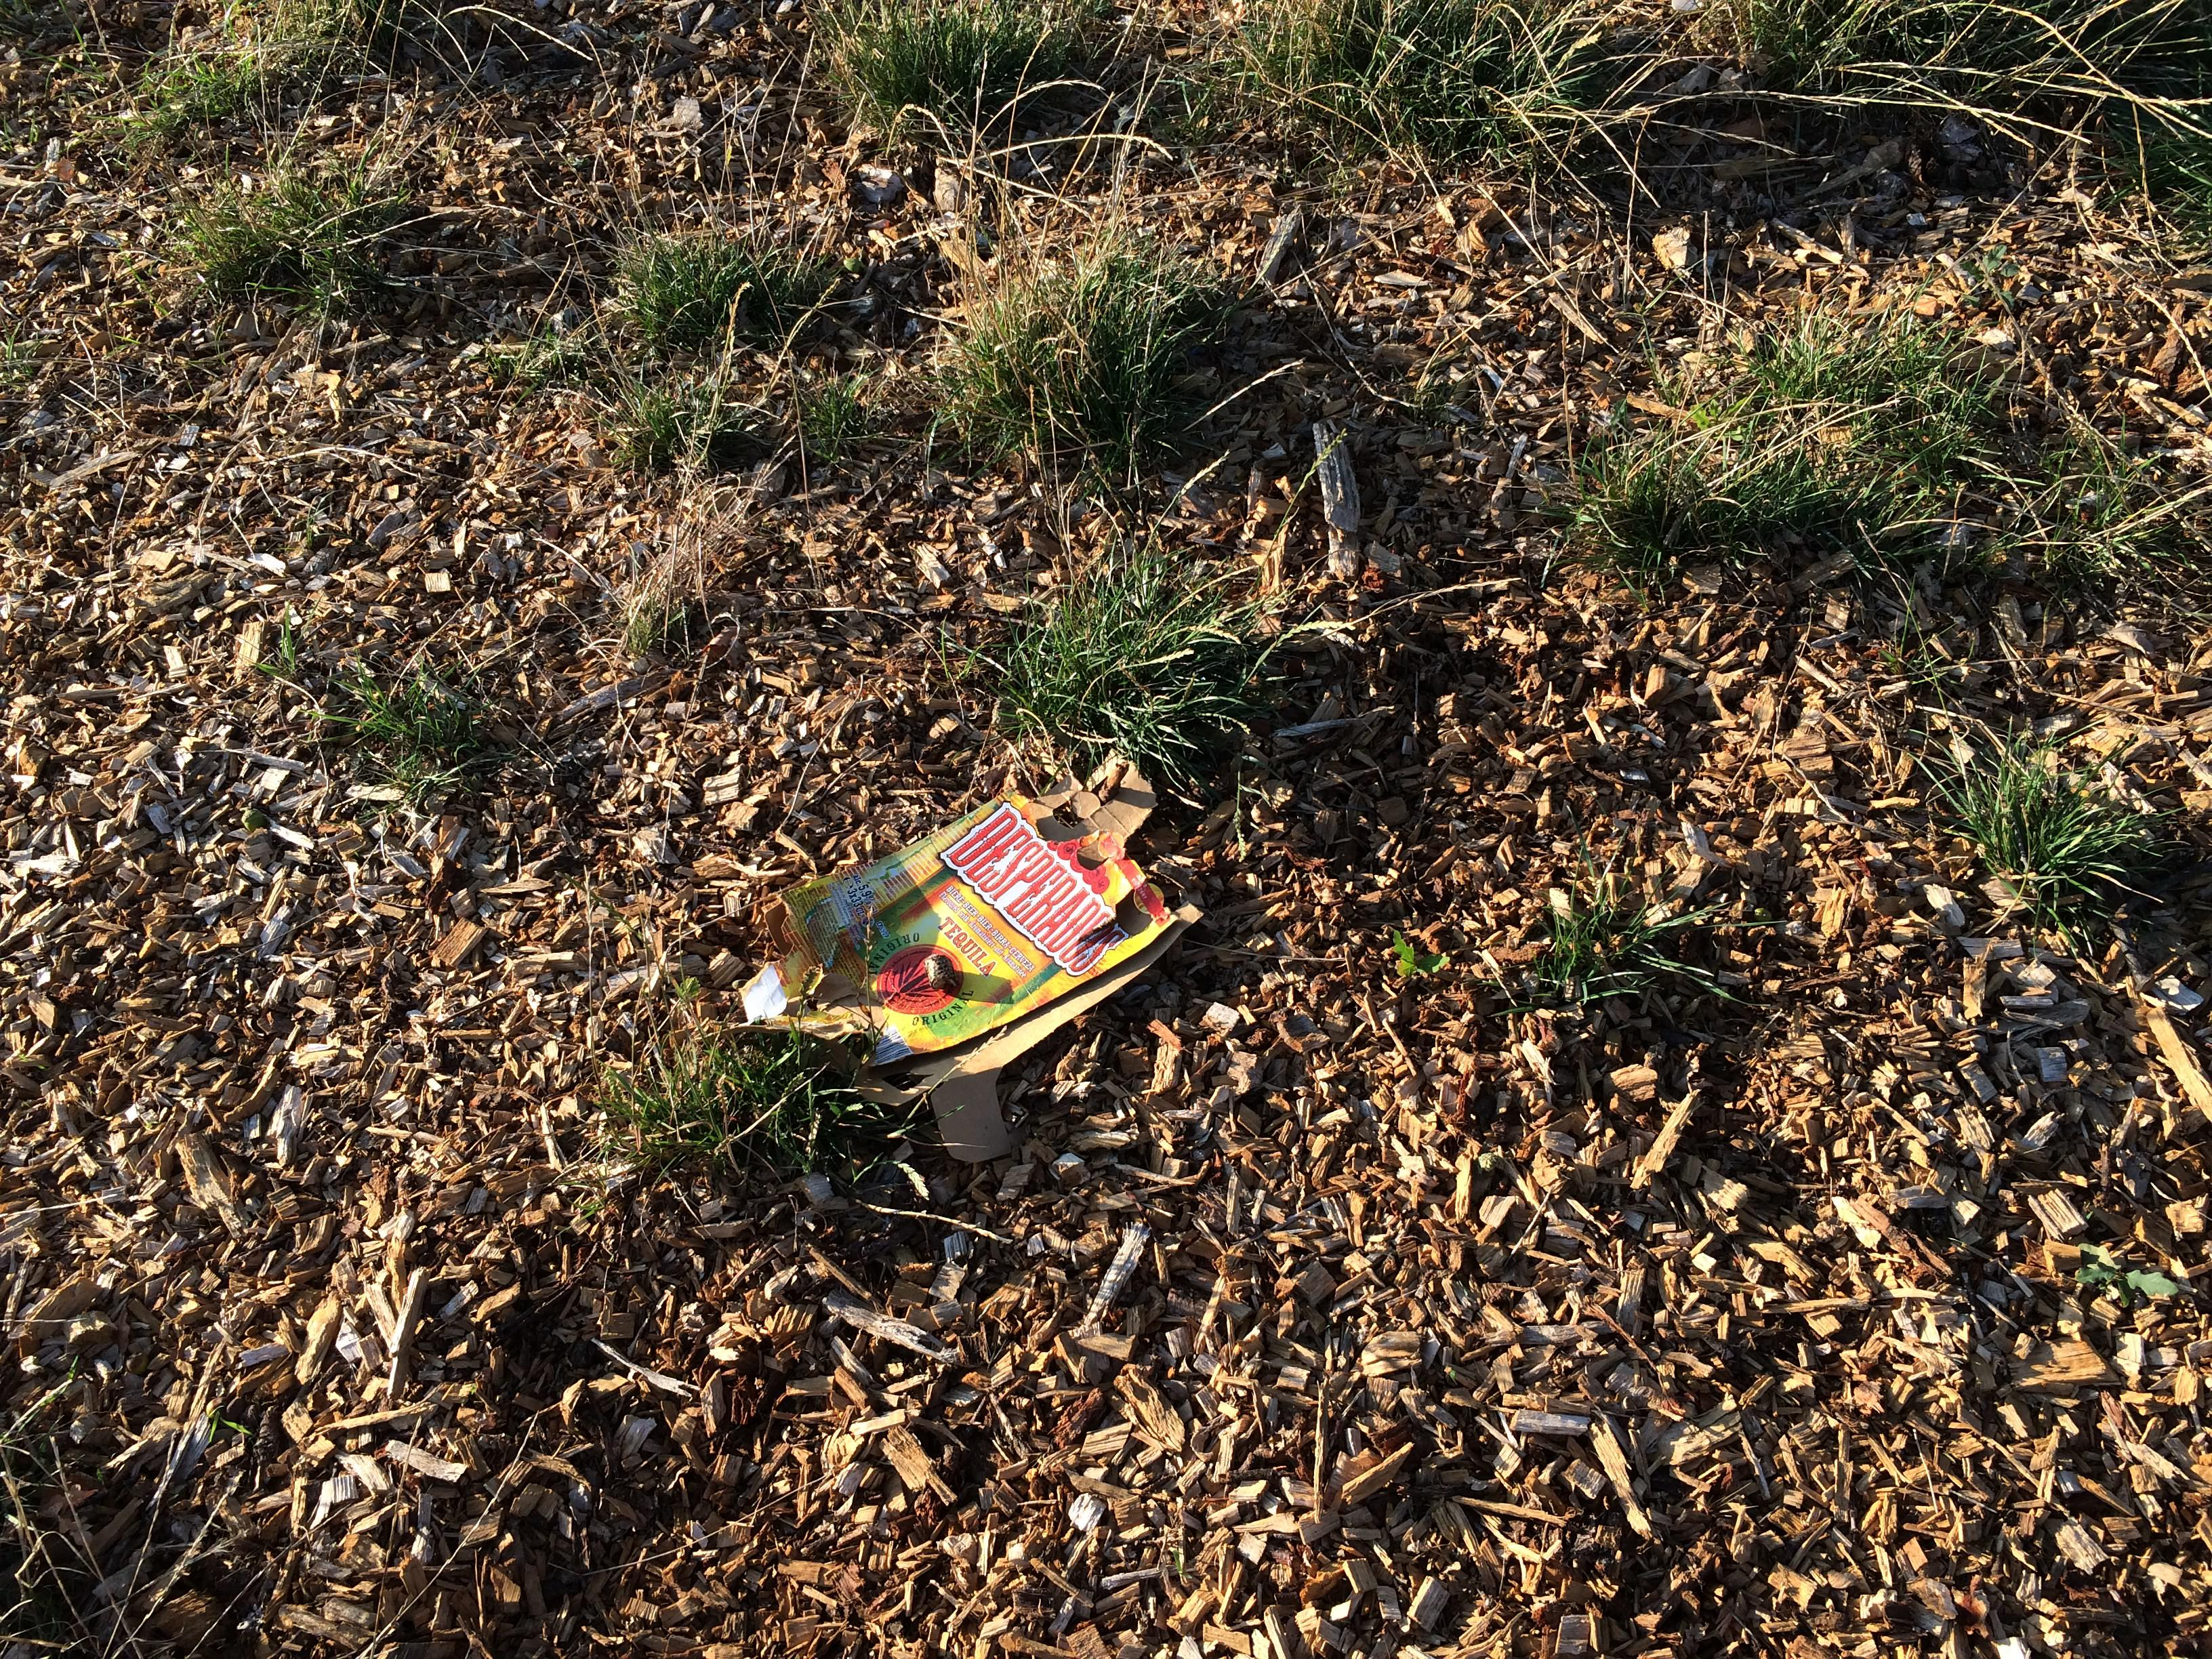Trash: (714, 784, 1190, 1096)
